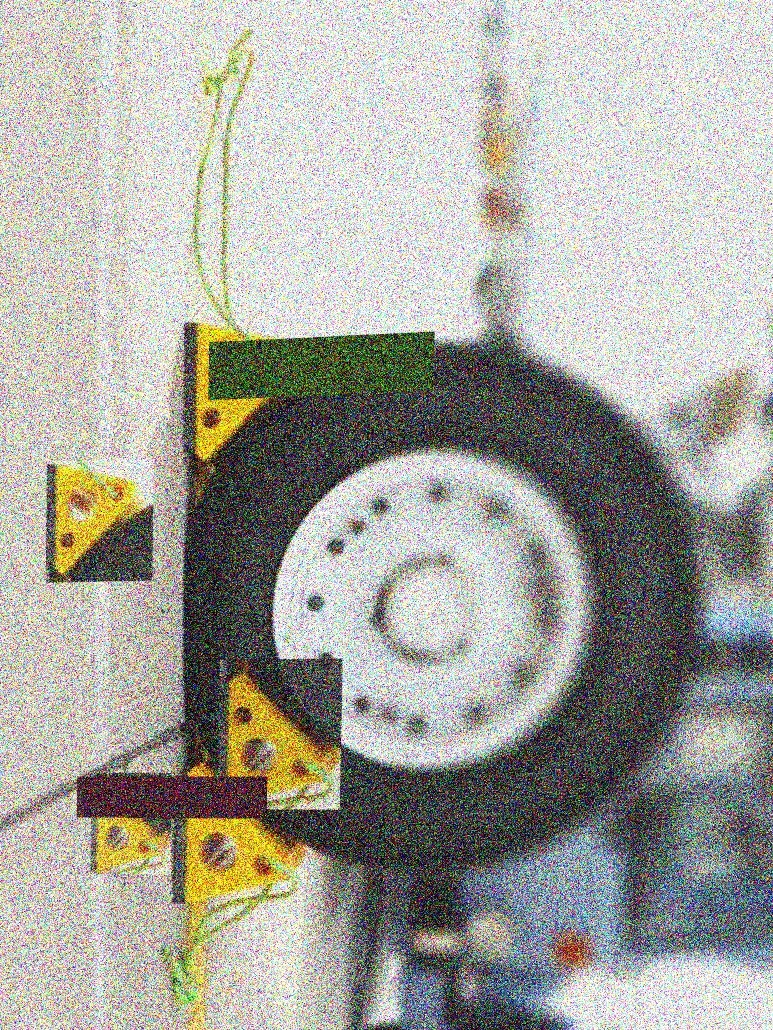chock: (183, 313, 322, 473), (176, 750, 308, 910), (218, 659, 343, 810), (46, 458, 154, 583), (90, 773, 172, 875)
wheel: (182, 335, 703, 865)
